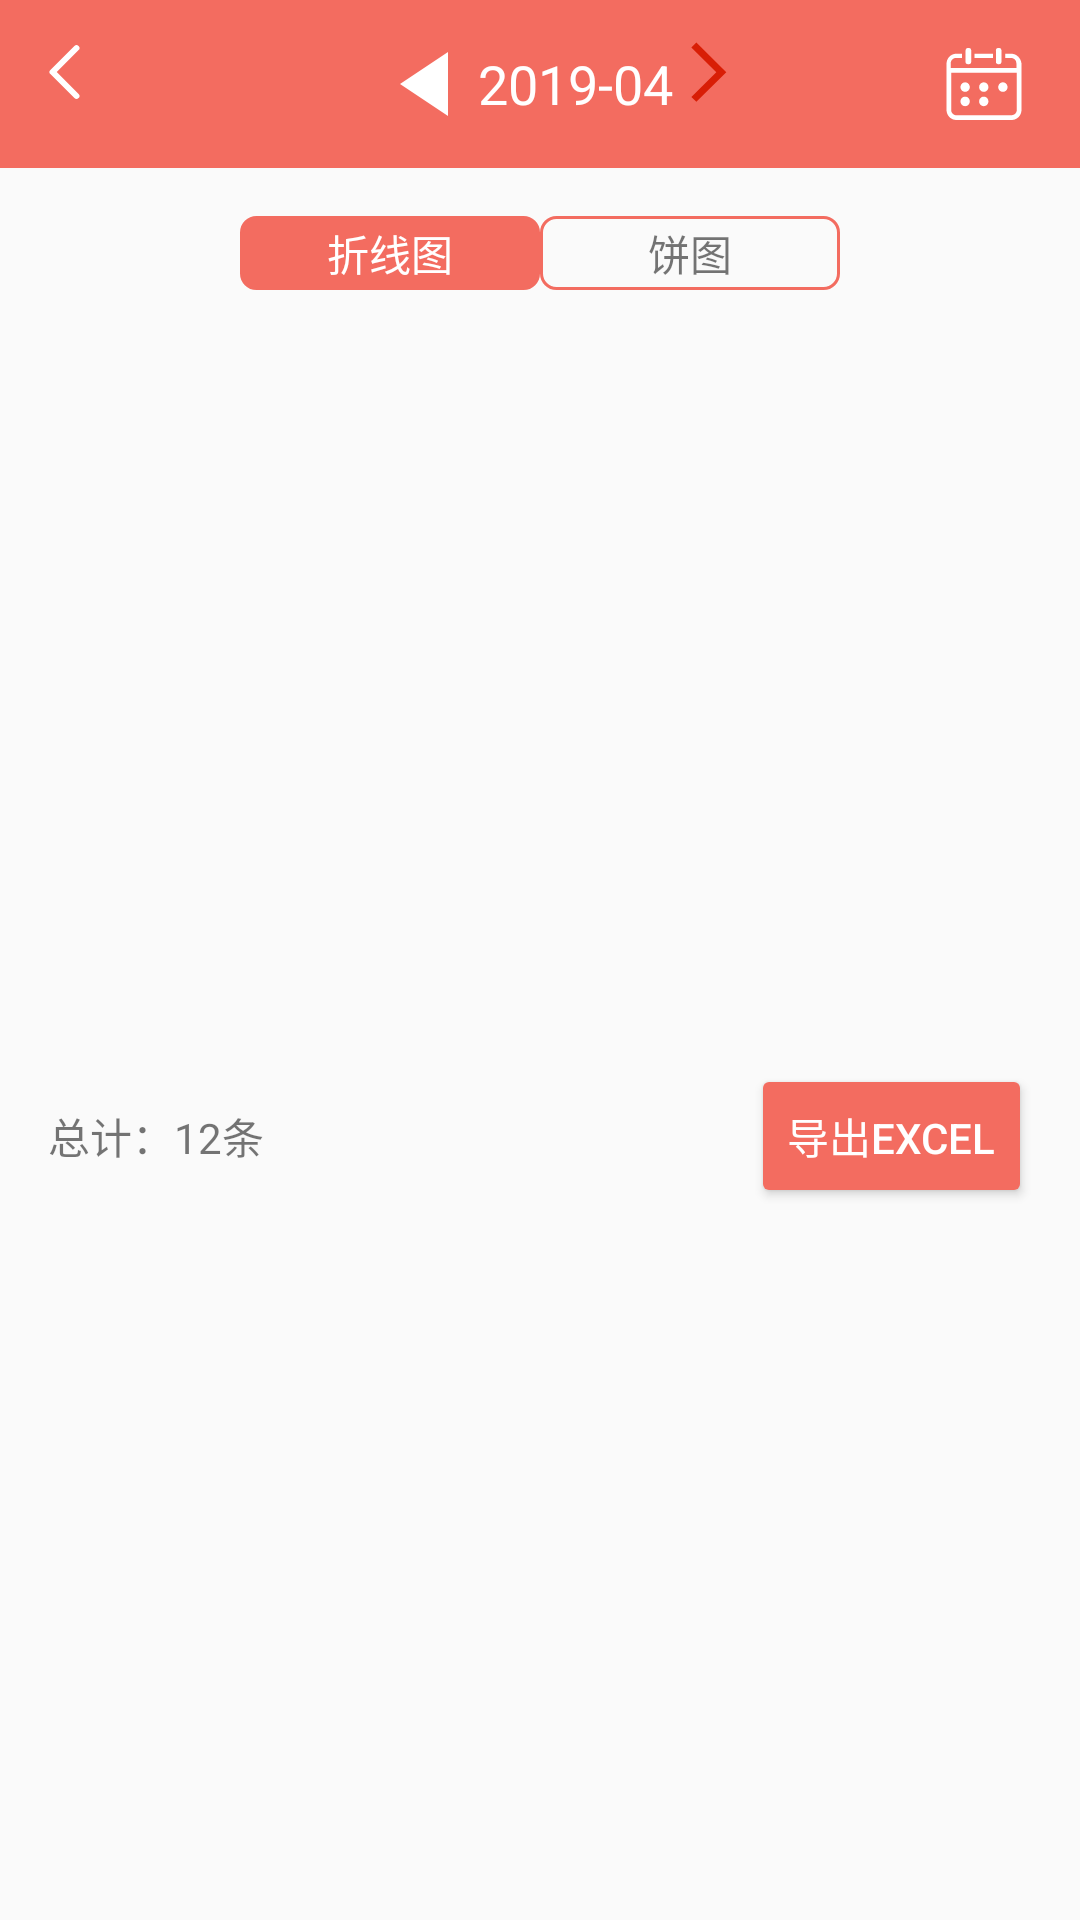

Named icons in this screenshot (1080w x 1920h) and their centers, point (x, y):
arrow left: point (424, 84)
arrow right: point (708, 72)
back: point (64, 72)
date: point (984, 84)
